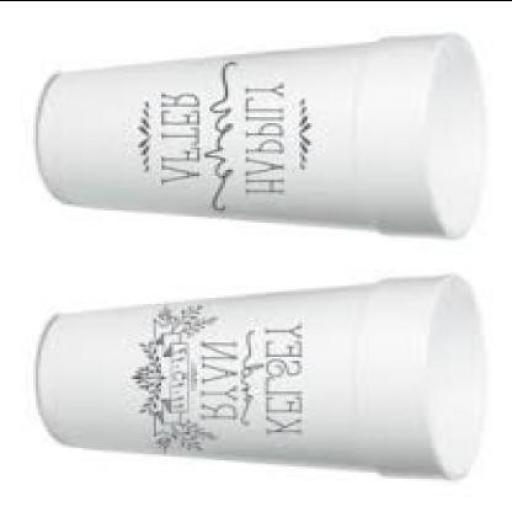paper: (38, 35, 492, 242), (38, 276, 489, 480)
